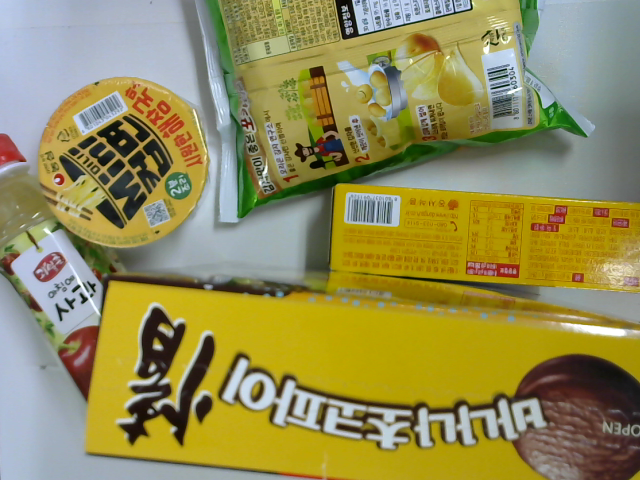Choco_Pie_Banana: (86, 272, 640, 480)
Hejangmini: (34, 74, 211, 251)
Morning_Apple_500ml: (1, 133, 138, 407)
Pocachip_Onion: (192, 1, 601, 227)
Ritz_Sand_Cracker: (321, 184, 640, 298)
